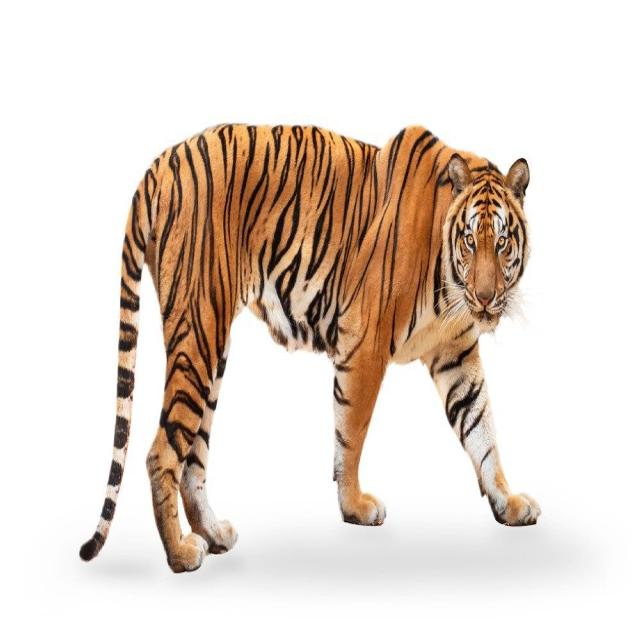Tiger: (79, 120, 541, 573)
